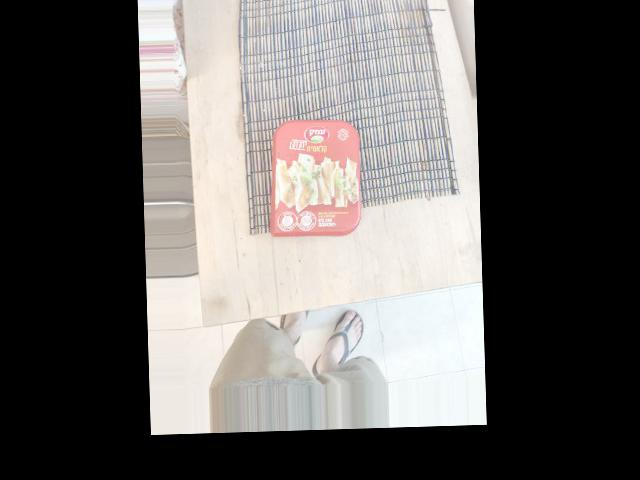cheese: (313, 92, 423, 195)
